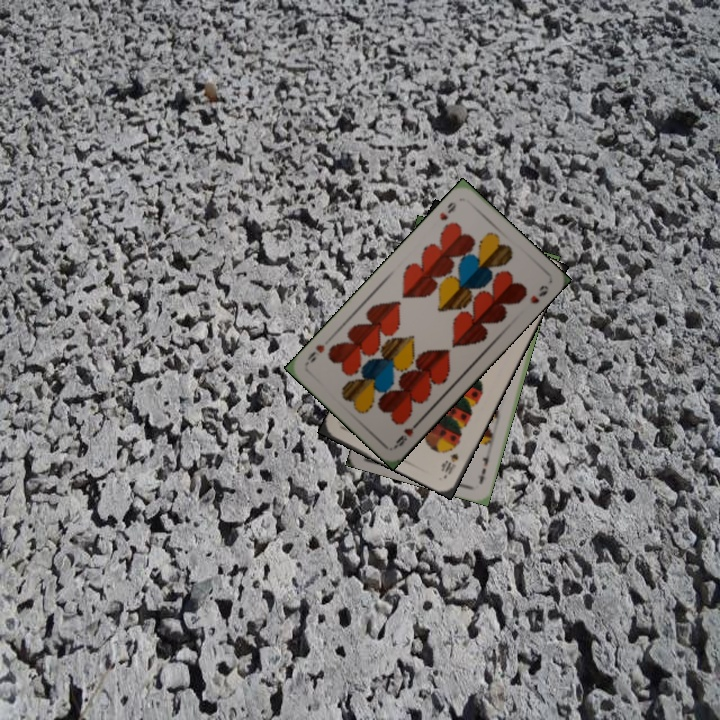E7: (475, 447, 493, 487)
H9: (391, 417, 423, 450), (435, 198, 459, 223)
S10: (438, 449, 461, 479)
